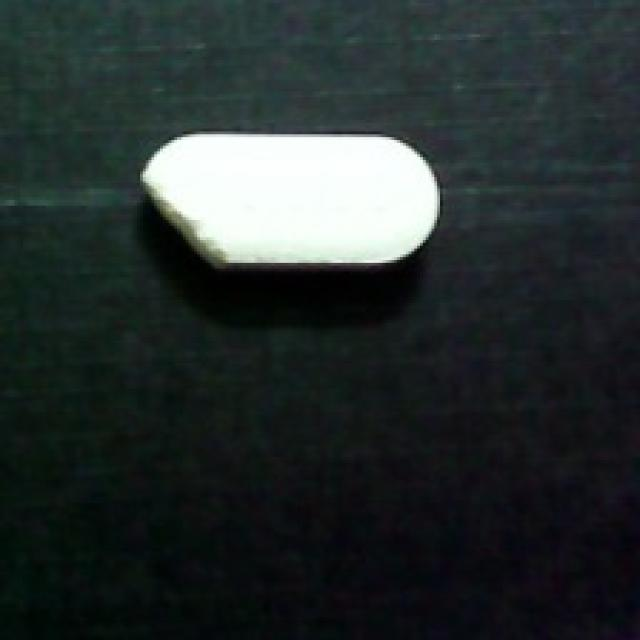defected: (129, 123, 451, 271)
